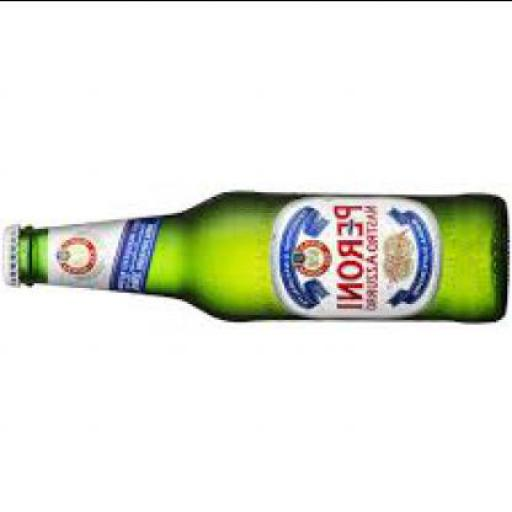glass: (18, 189, 505, 321)
metal: (0, 221, 16, 280)
